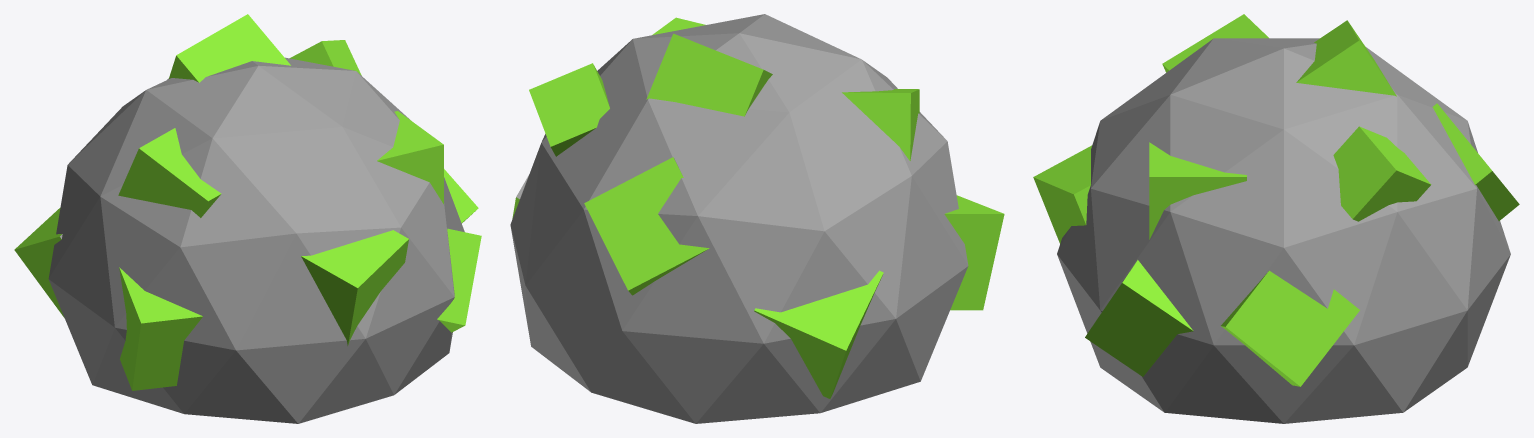
Rendered from Emerald.fbx.
The picture shows the model from 3 angles, left to right: view 1: azimuth 30°, elevation 25°; view 2: azimuth 150°, elevation 25°; view 3: azimuth 270°, elevation 25°; orthographic projection. The views are drawn at different scales.
Visible parts, largest first — view 1: Kula ico; view 2: Kula ico; view 3: Kula ico.
Boxes of the visible parts, box(x1,y1,x2,y2) form: Kula ico: box(14, 14, 481, 423); Kula ico: box(510, 14, 1004, 423); Kula ico: box(1033, 14, 1519, 423).
Bounding box in the file's own units: 103 × 76.76 × 107.
